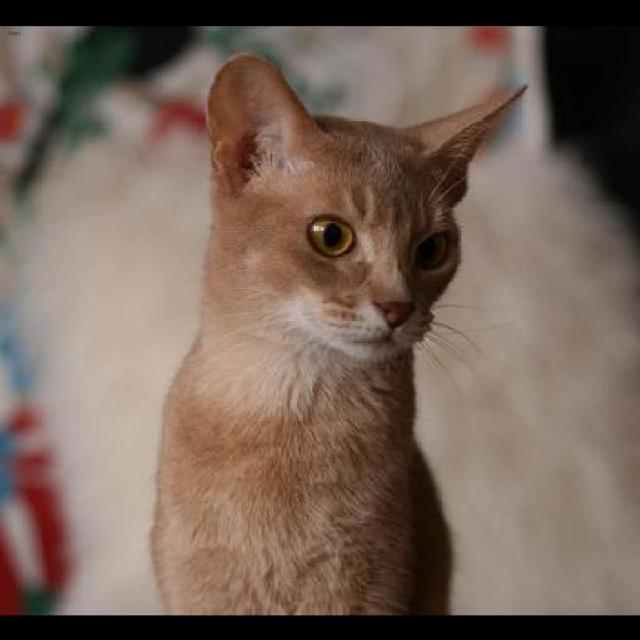unauthorized: (148, 51, 529, 615)
